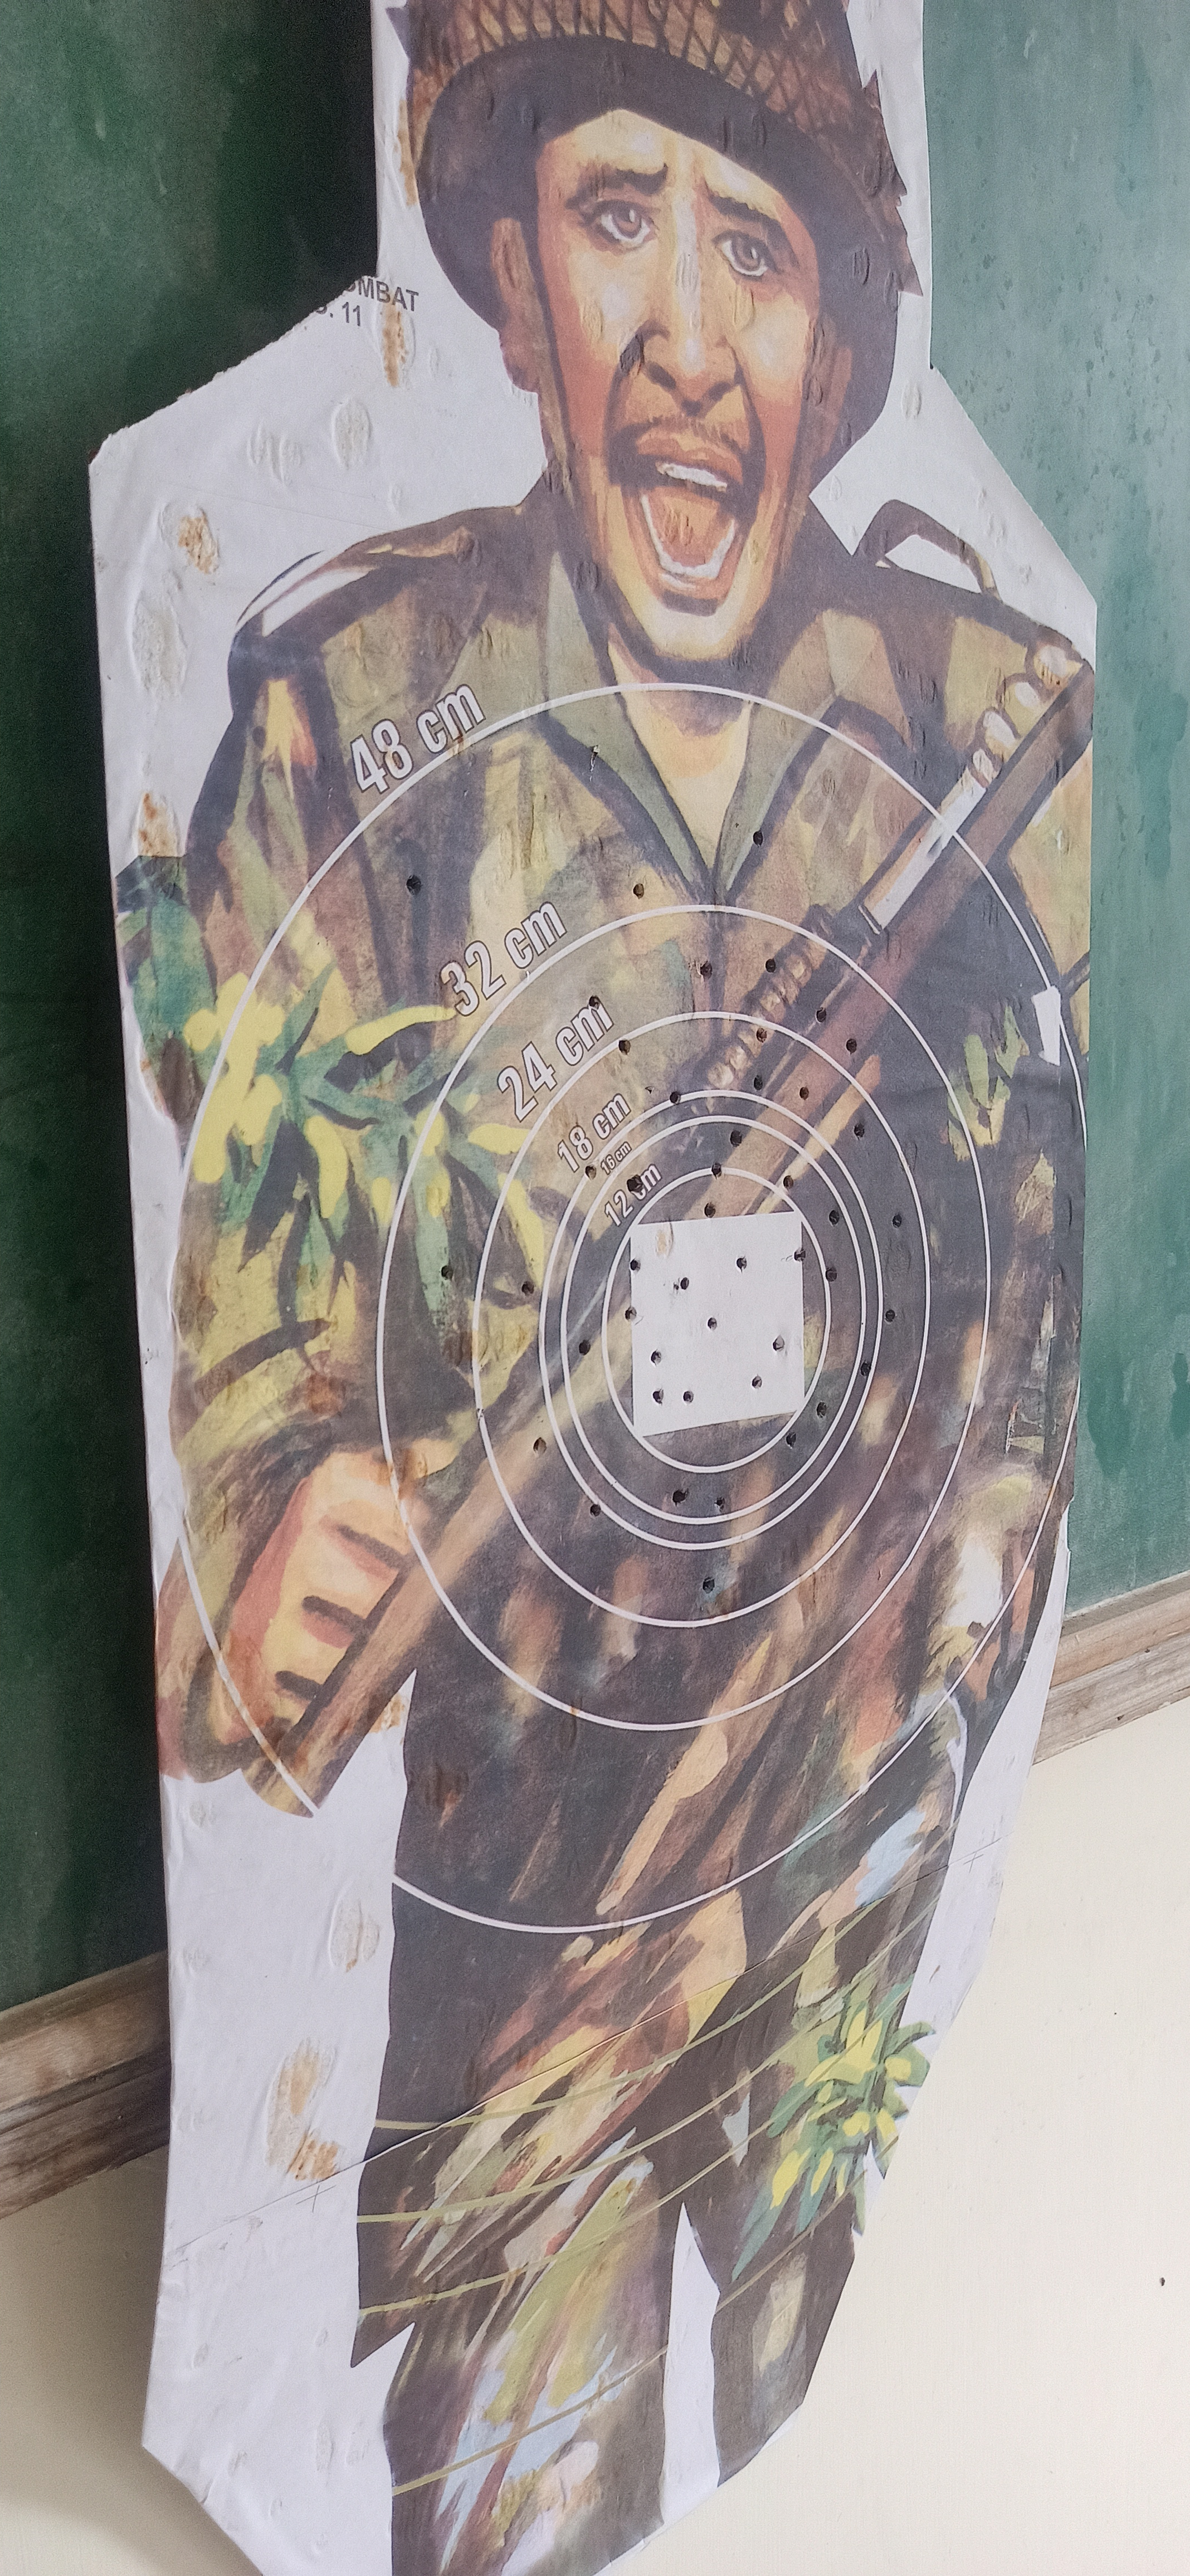bullet hit: (399, 864, 431, 902), (743, 1069, 773, 1101), (664, 1480, 690, 1511), (623, 1170, 651, 1198), (695, 1571, 722, 1600), (692, 1199, 725, 1222), (513, 1275, 539, 1301), (524, 1433, 552, 1457), (725, 1122, 748, 1152), (689, 959, 720, 981), (705, 1153, 726, 1184), (745, 825, 769, 851), (807, 1000, 832, 1027), (436, 1258, 460, 1285), (676, 1382, 700, 1408), (572, 1337, 600, 1360), (582, 986, 605, 1012), (661, 1086, 687, 1109), (766, 1331, 789, 1357), (758, 953, 782, 976), (848, 1117, 871, 1142), (888, 1209, 912, 1232), (853, 1355, 876, 1380), (707, 1492, 731, 1515), (648, 1383, 671, 1408), (842, 1033, 863, 1060), (779, 1166, 800, 1193), (825, 1204, 846, 1230), (611, 1033, 634, 1056), (794, 1081, 817, 1104), (577, 1160, 602, 1181), (879, 1301, 901, 1326), (746, 1368, 768, 1393), (625, 881, 651, 900), (644, 1342, 664, 1368), (751, 1022, 774, 1043), (702, 1311, 722, 1336), (782, 1429, 800, 1456), (786, 1242, 809, 1262), (822, 1262, 840, 1286), (672, 1272, 694, 1291), (812, 1401, 832, 1423), (731, 1252, 748, 1277), (587, 1498, 603, 1523), (625, 1253, 644, 1273), (621, 1304, 639, 1324)
white box: (620, 1209, 810, 1441)
